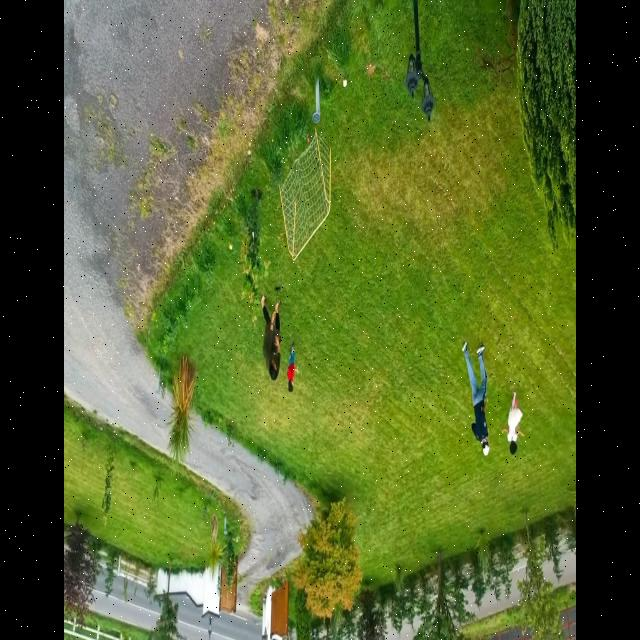humans: (460, 336, 494, 461), (256, 292, 284, 386), (500, 386, 527, 461), (284, 335, 302, 398)
